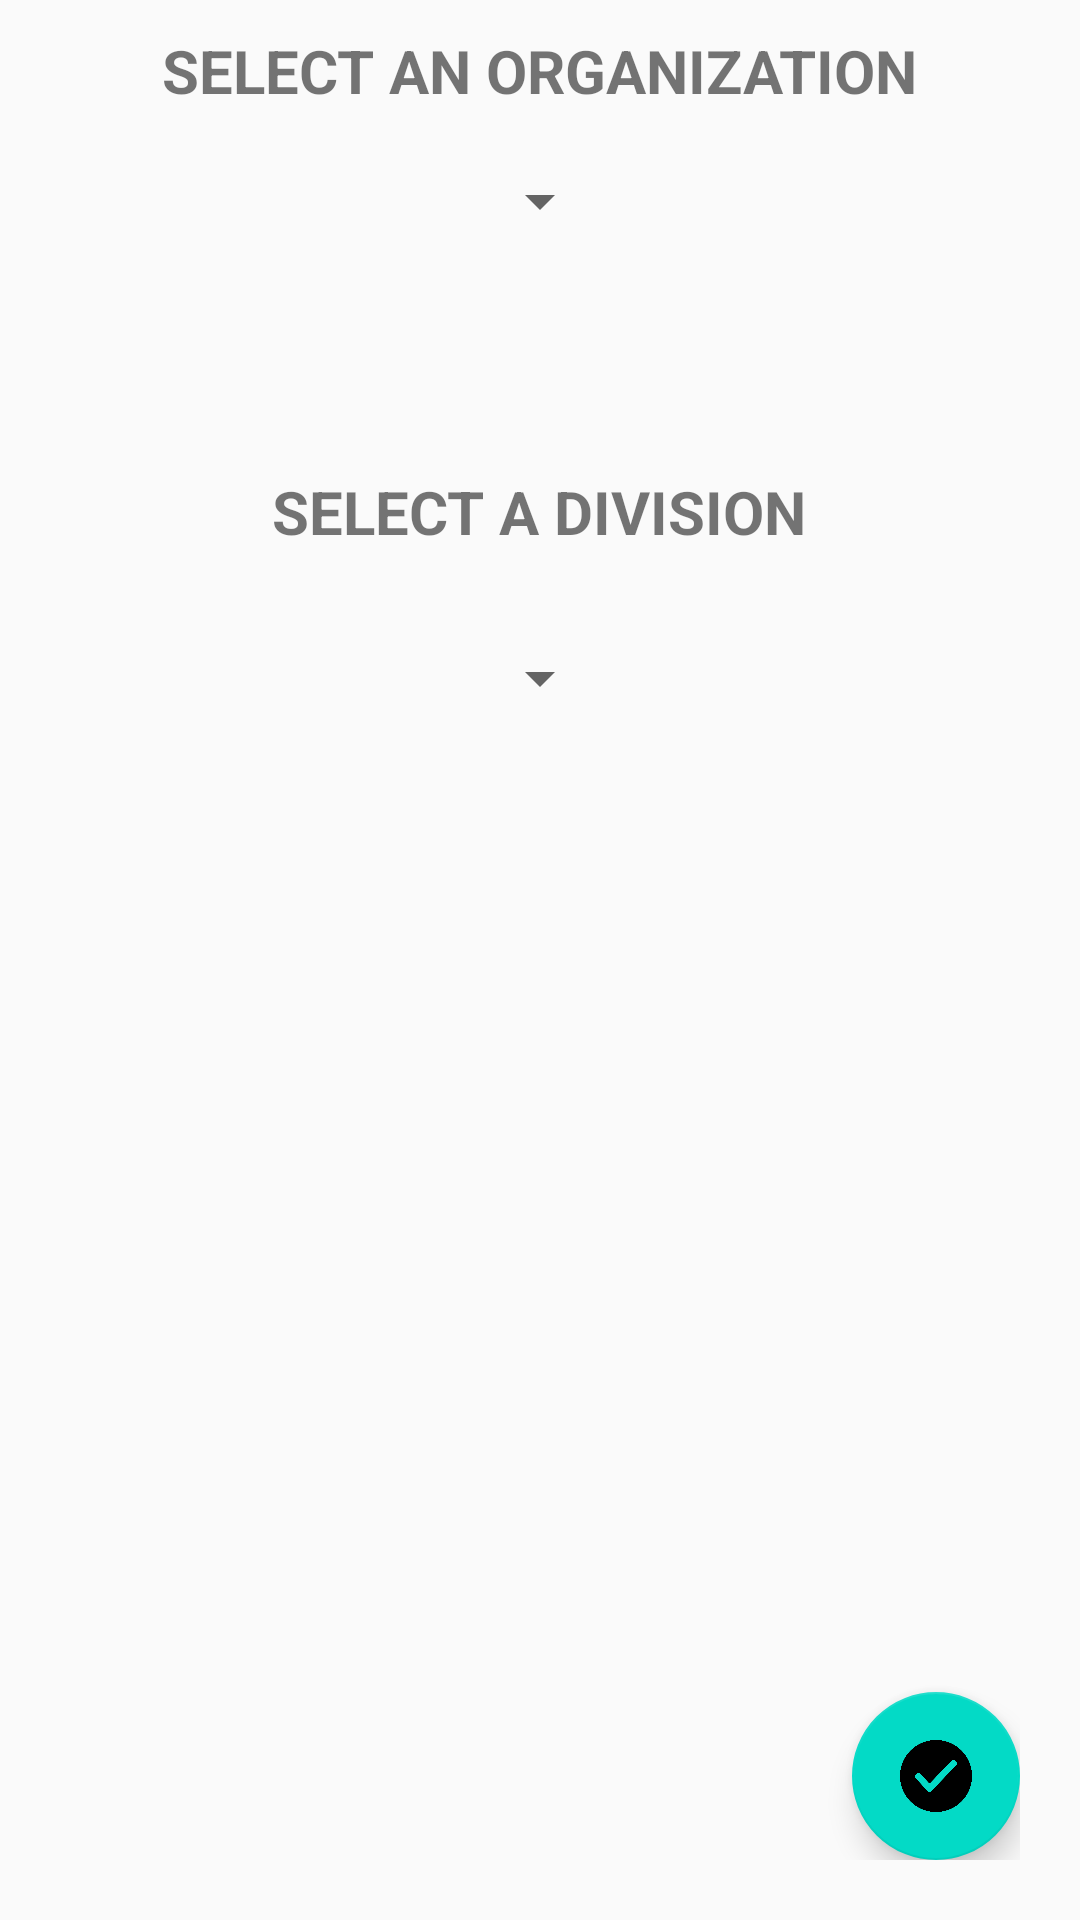

Icons on this 1080x1920 Android screen, each with its box as (x1, y1, x2, y2):
checked: (852, 1692, 1020, 1860)
